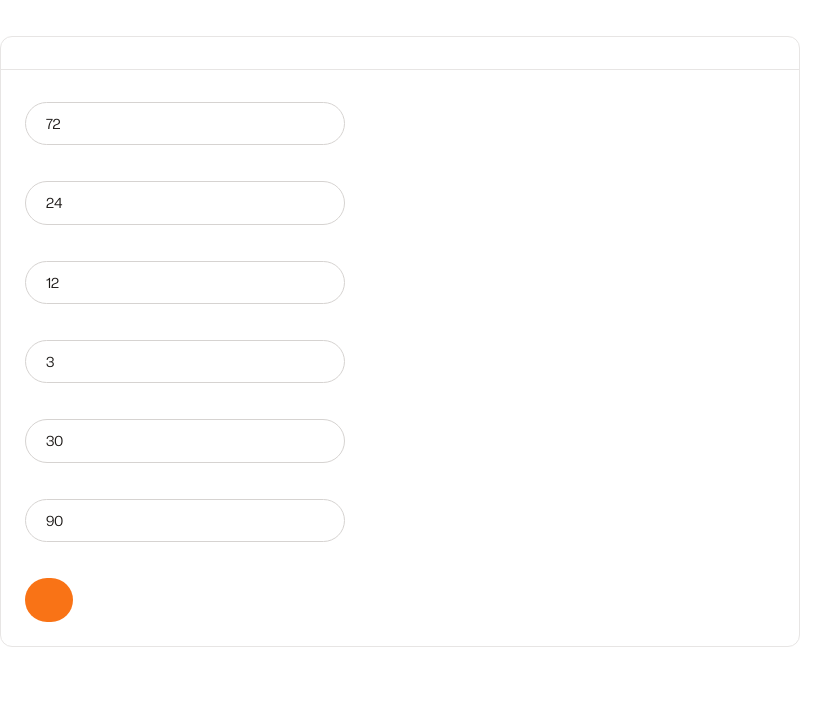
ModerationSettings.vue › Save Functionality › should show success feedback after save
Replace the text in the number field with id "auto-escalation-threshold" with "4" at (185, 362), box [25,340,345,383]
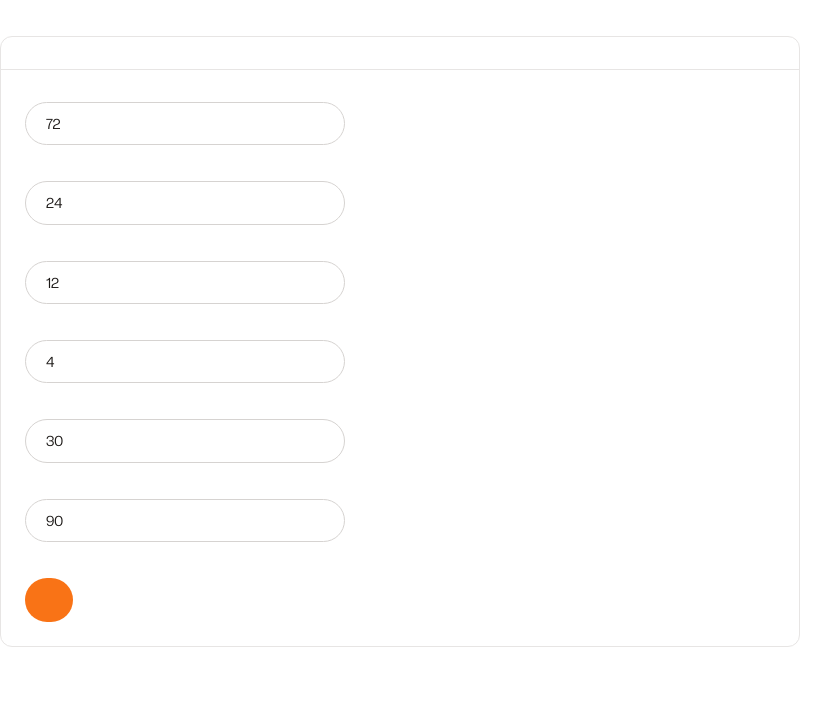
Submit the form, box [25,102,345,622]
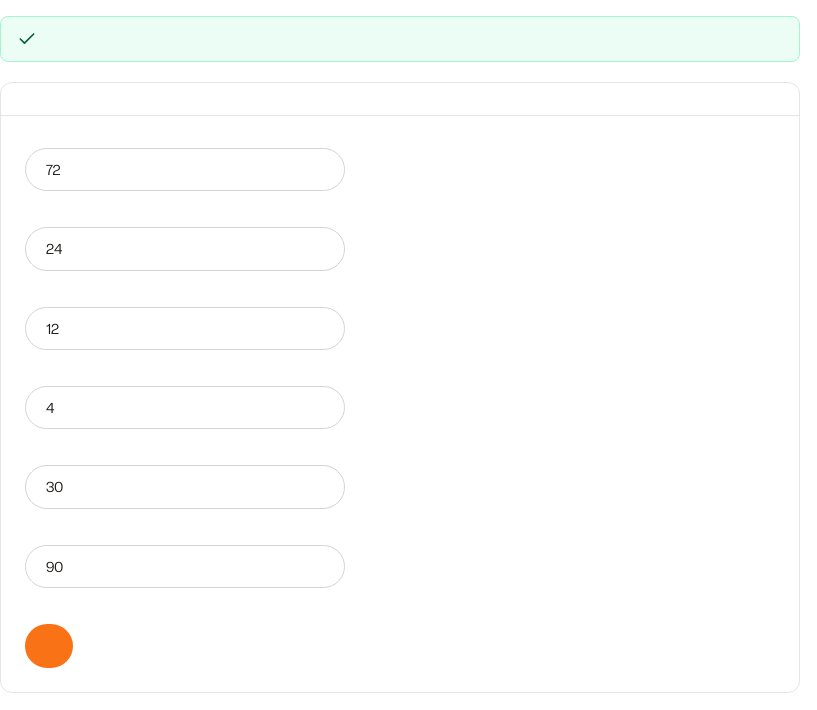
Expected: the element with class "message-success" is shown, [0,16,800,62]
